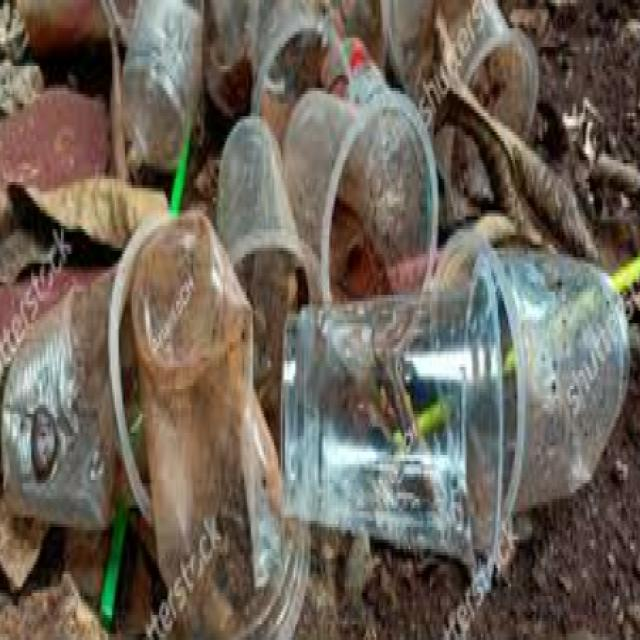GelasPlastik: (274, 247, 500, 575), (134, 213, 302, 626), (1, 220, 186, 528), (272, 63, 438, 373)
